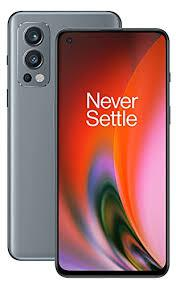Smartphone: (53, 32, 169, 278), (8, 7, 117, 264)
